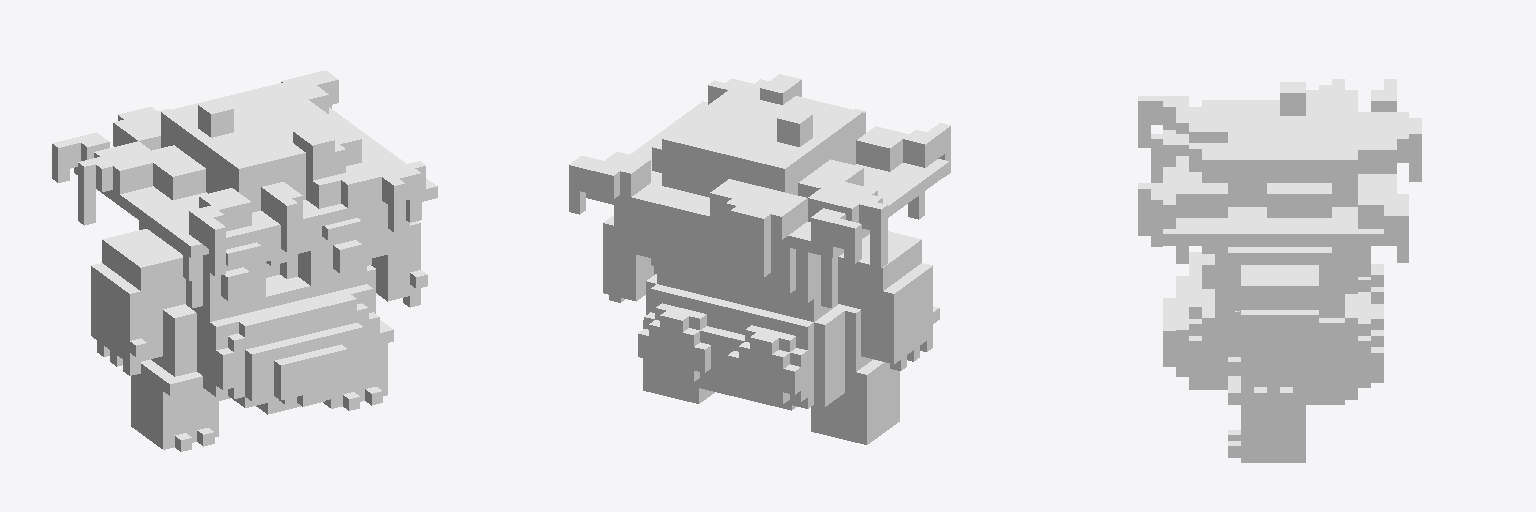
The model's file is MushroomMan.obj.
3 renders of one model, left to right at view 1: azimuth 30°, elevation 25°; view 2: azimuth 150°, elevation 25°; view 3: azimuth 270°, elevation 25°, orthographic.
Parts seen in each view (by area): view 1: object 1; view 2: object 1; view 3: object 1.
Boxes of the visible parts, x1=… form: object 1: x1=52, y1=70, x2=437, y2=451; object 1: x1=569, y1=74, x2=950, y2=444; object 1: x1=1138, y1=79, x2=1421, y2=462.
Size of the model in its own units: 2.6 by 2.6 by 2.2.